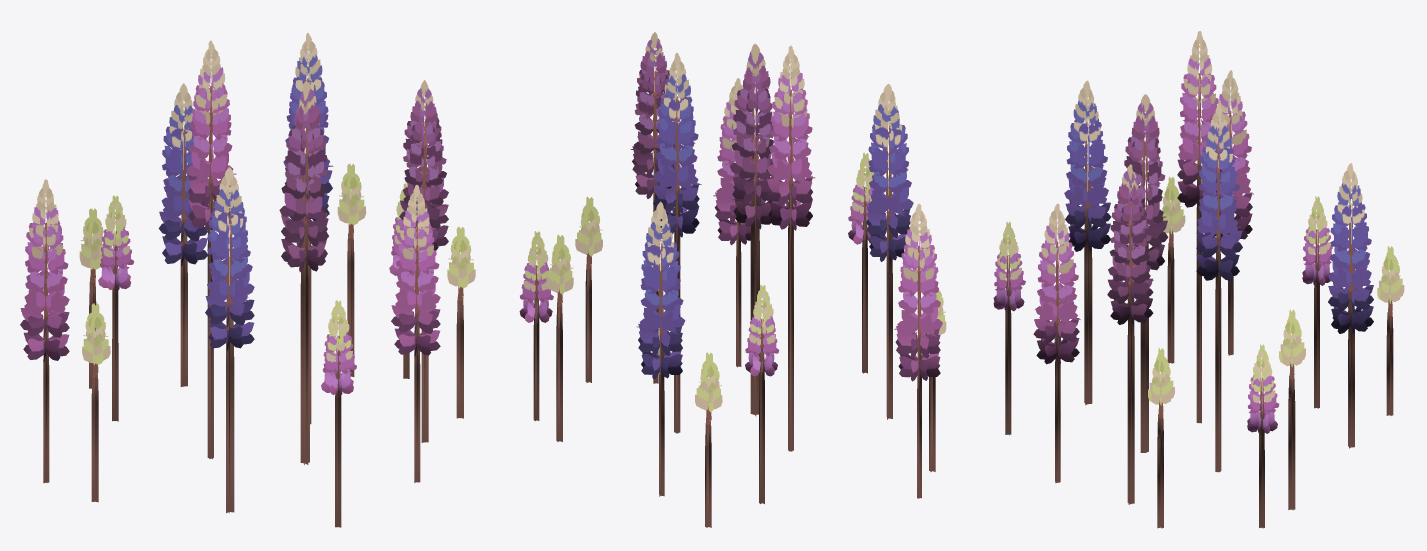
Rendered from SM_Env_Bush_Flower_01.fbx.
3 views of the same model, side by side, from view 1: azimuth 30°, elevation 25°; view 2: azimuth 150°, elevation 25°; view 3: azimuth 270°, elevation 25° (orthographic). The views are drawn at different scales.
Parts seen in each view (by area): view 1: SM_Env_Bush_Flower_01_LOD0; view 2: SM_Env_Bush_Flower_01_LOD0; view 3: SM_Env_Bush_Flower_01_LOD0.
Part boxes in pixels (bbox=[...]): SM_Env_Bush_Flower_01_LOD0: bbox=[20, 33, 475, 527]; SM_Env_Bush_Flower_01_LOD0: bbox=[519, 32, 946, 527]; SM_Env_Bush_Flower_01_LOD0: bbox=[993, 31, 1404, 528].
Size of what is drawn, in the model's own units: 184 by 175 by 171.
Materials: 1 (1 with a texture image).
